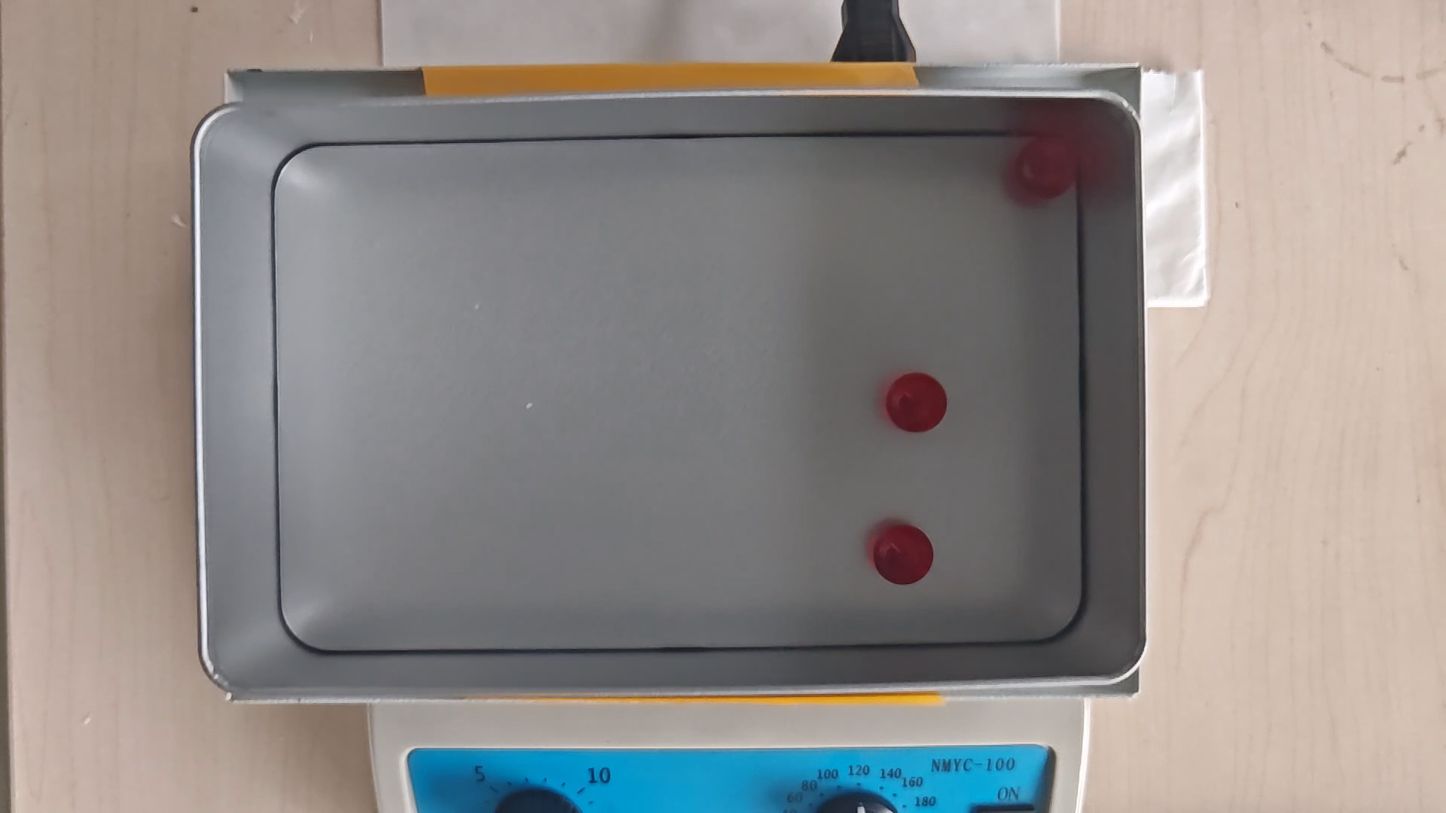ball: (1018, 133, 1078, 199), (874, 525, 933, 586), (886, 373, 946, 432)
container: (276, 135, 1082, 650)
